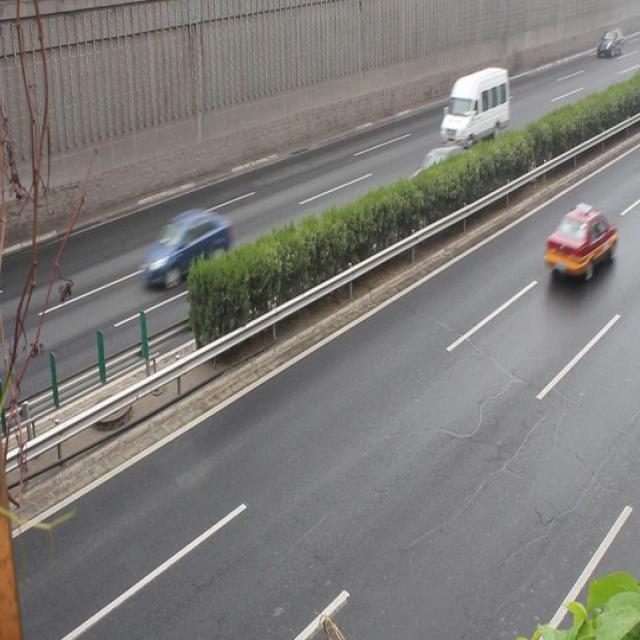car: (140, 208, 230, 289), (544, 204, 615, 282), (403, 145, 470, 209)
truck: (439, 68, 508, 142)
